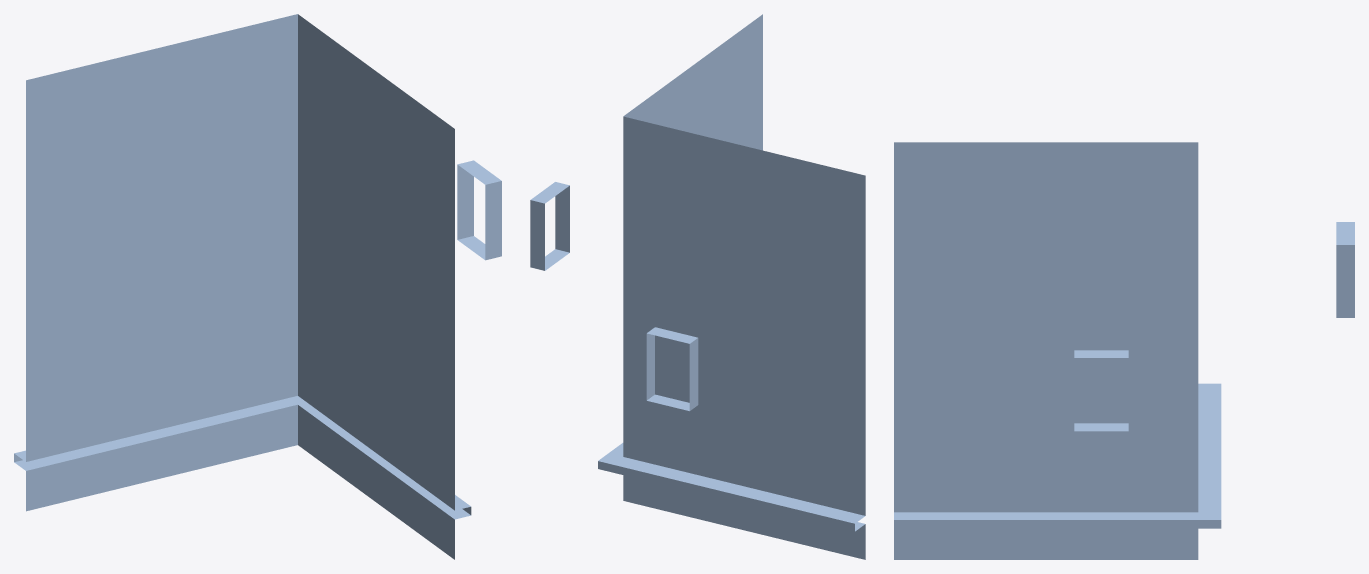
The model's file is ParedEsquinaNS.gltf.
3 views of the same model, side by side, from view 1: azimuth 30°, elevation 25°; view 2: azimuth 150°, elevation 25°; view 3: azimuth 270°, elevation 25° (orthographic). The views are drawn at different scales.
Visible parts, largest first — view 1: Paredesquina Ns; view 2: Paredesquina Ns; view 3: Paredesquina Ns.
Boxes of the visible parts, <box> form: Paredesquina Ns: <box>14,14,501,559</box>; Paredesquina Ns: <box>530,14,865,559</box>; Paredesquina Ns: <box>894,142,1354,559</box>.
Bounding box in the file's own units: 2 × 2 × 2.
